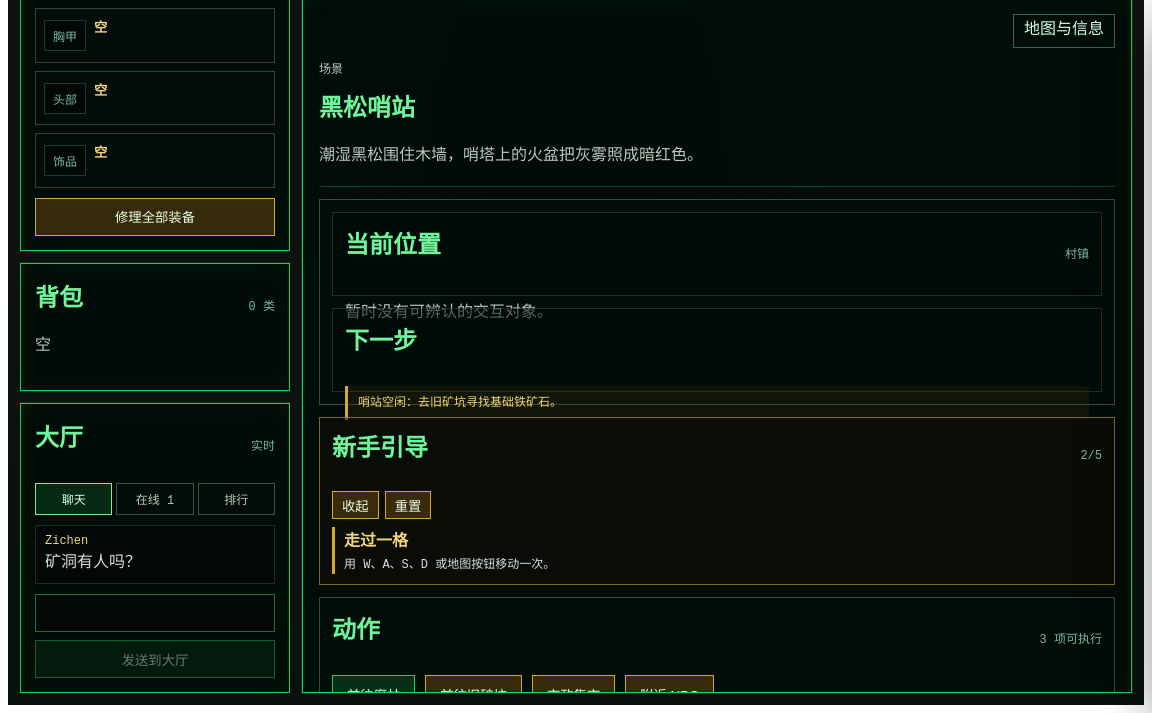
Test: GameShell › renders lobby chat, presence, and leaderboard data from the sync payload
(page scrolled)
Expected: the heading "大厅" is shown, [35, 418, 83, 453]
Expected: the text "矿洞有人吗？" is shown, [45, 554, 141, 572]
Step 1. Click the tab "在线 1" → (155, 499), box [116, 483, 194, 515]
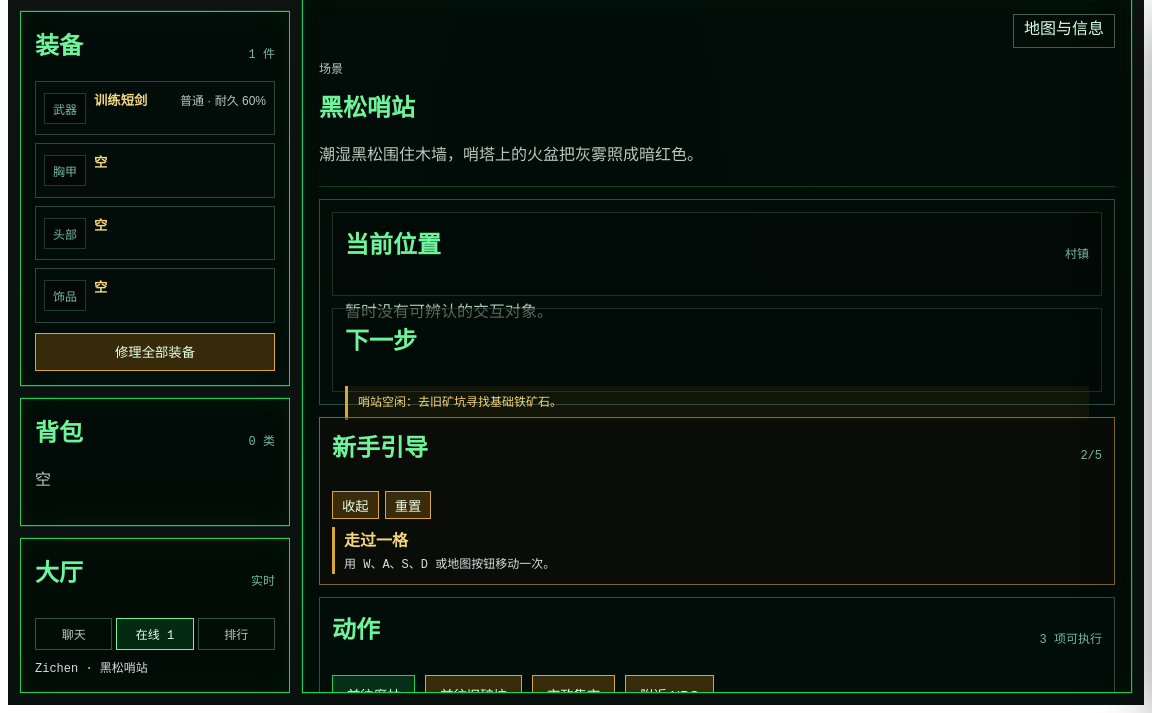
Result: the list item "Zichen · 黑松哨站" is shown at [35, 662, 148, 676]
Step 2. Click the tab "排行" → (236, 634), box [198, 618, 275, 650]
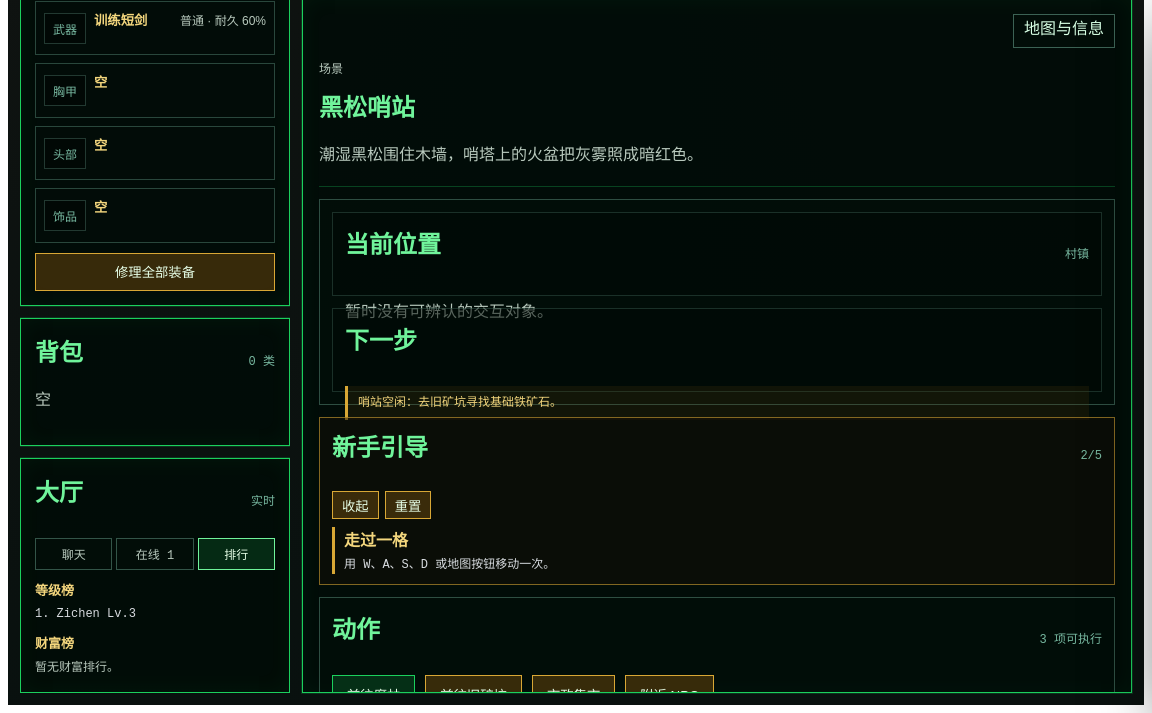
Result: the heading "等级榜" is shown at [35, 584, 74, 599]
Result: the list item "1. Zichen Lv.3" is shown at [35, 607, 136, 621]
